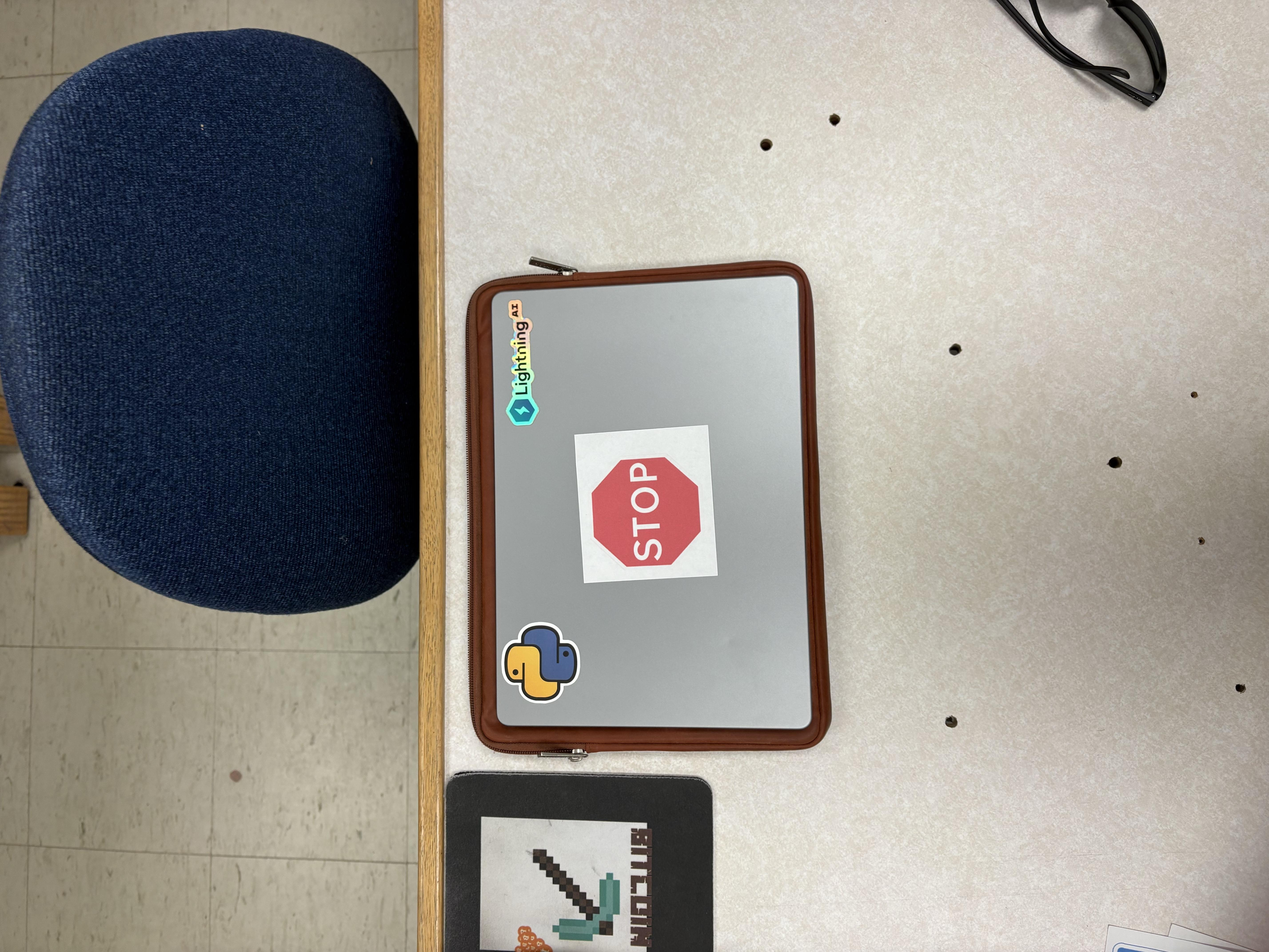Stop: (580, 421, 718, 592)
